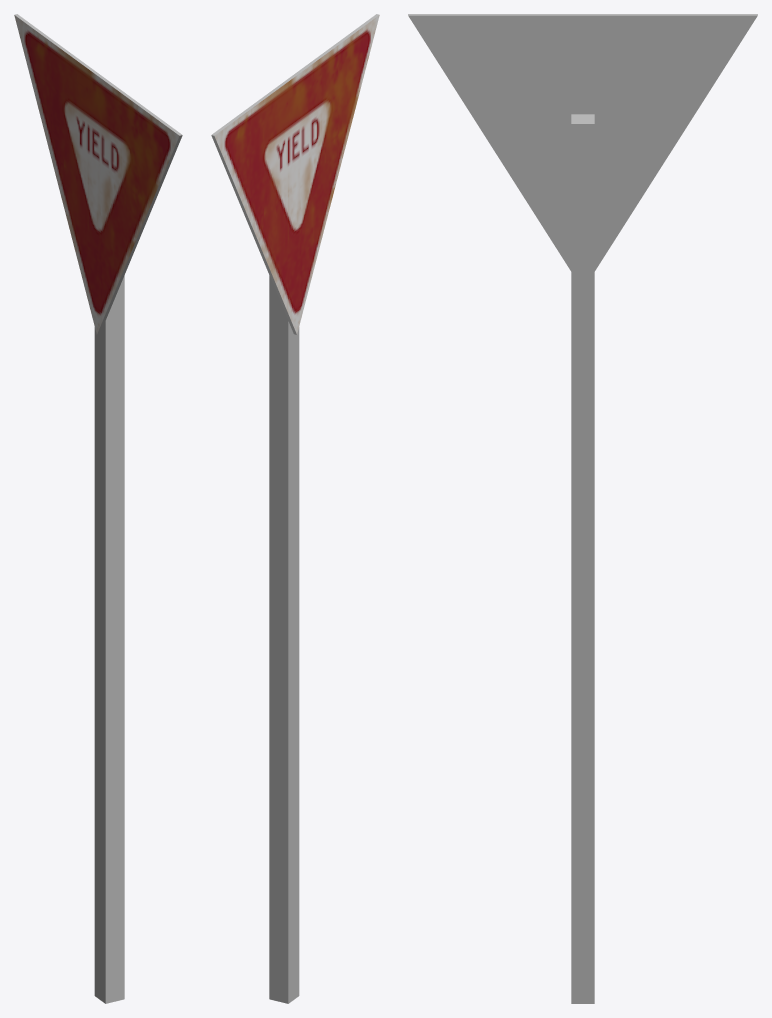
The model's file is trafficSign_yield.fbx.
3 renders of one model, left to right at view 1: azimuth 30°, elevation 25°; view 2: azimuth 150°, elevation 25°; view 3: azimuth 270°, elevation 25°, orthographic. The views are drawn at different scales.
Visible parts, largest first — view 1: trafficSign_yield; view 2: trafficSign_yield; view 3: trafficSign_yield.
Part boxes in pixels (x1=…): trafficSign_yield: x1=14, y1=14, x2=182, y2=1003; trafficSign_yield: x1=211, y1=14, x2=379, y2=1003; trafficSign_yield: x1=408, y1=14, x2=757, y2=1003.
Bounding box in the file's own units: 6.99 × 278 × 90.07.
